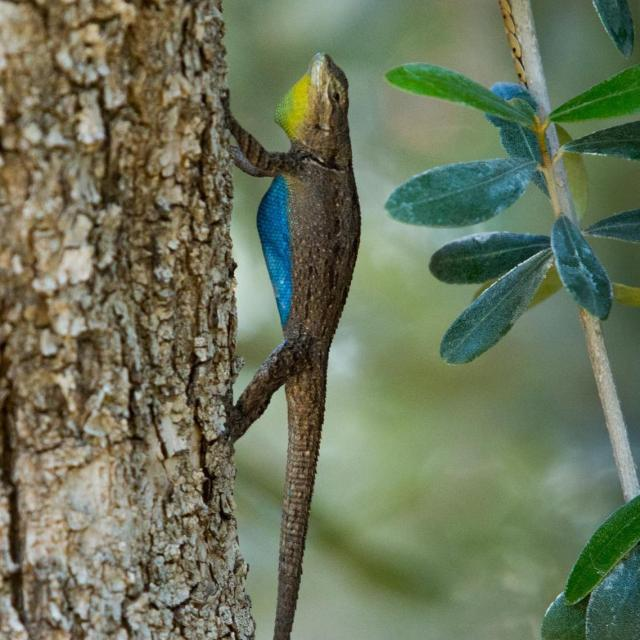Lizard: (199, 48, 364, 631)
